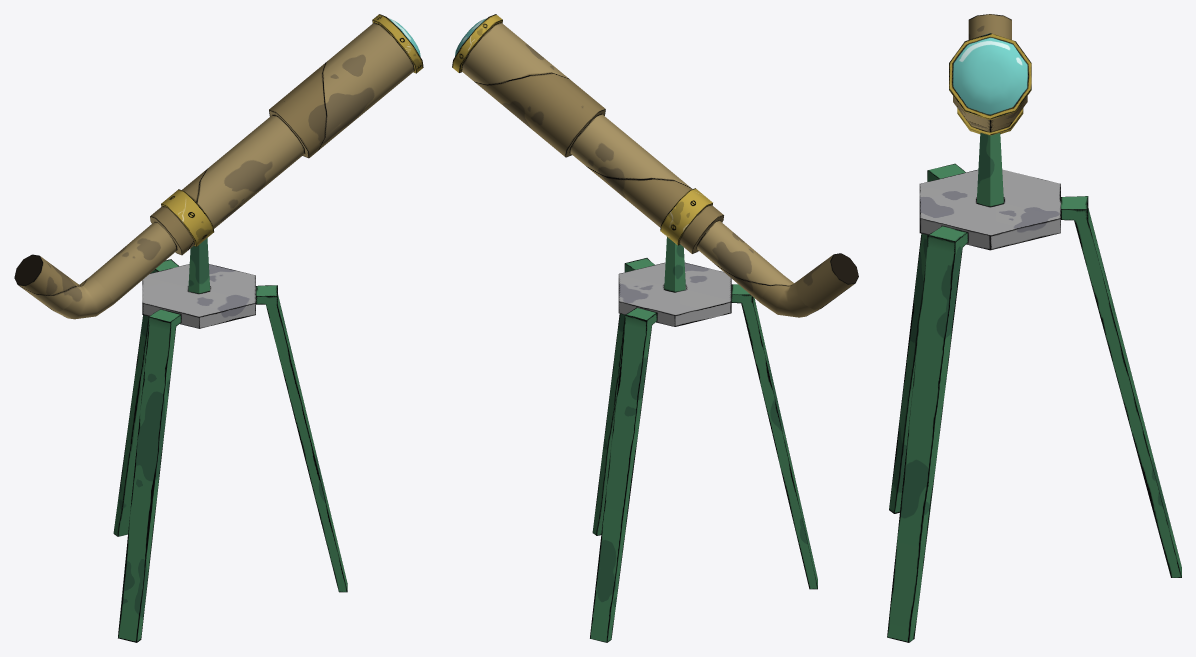
Rendered from Telescope.fbx.
The picture shows the model from 3 angles, left to right: view 1: azimuth 30°, elevation 25°; view 2: azimuth 150°, elevation 25°; view 3: azimuth 270°, elevation 25°; orthographic projection. The views are drawn at different scales.
Parts seen in each view (by area): view 1: Telescope; view 2: Telescope; view 3: Telescope.
Boxes of the visible parts, x1,y1,x2,y2 form: Telescope: [14, 14, 423, 642]; Telescope: [452, 14, 858, 642]; Telescope: [887, 14, 1181, 642].
Bounding box in the file's own units: 2.28 × 2.87 × 1.17.
